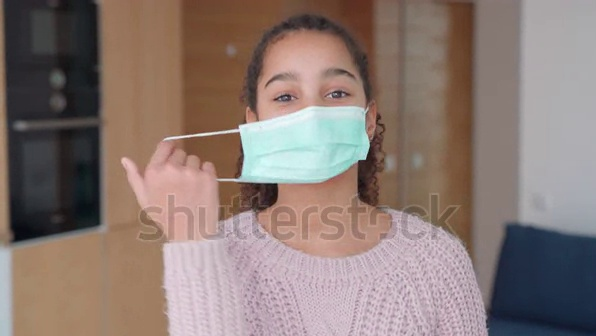Mask: (226, 102, 383, 195)
